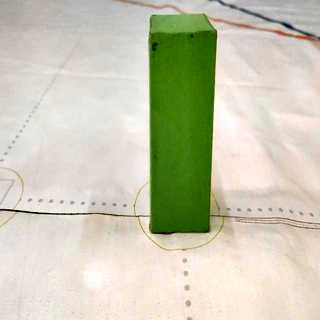greenbox: (148, 15, 217, 233)
